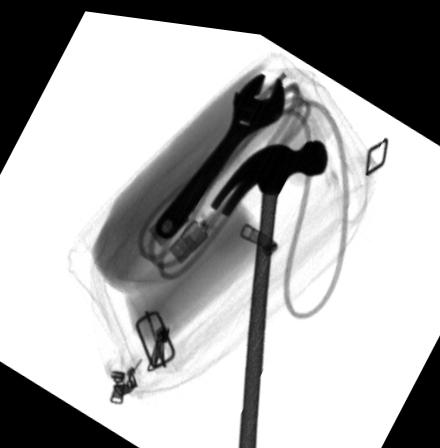Hammer: (210, 128, 329, 448)
Wrench: (152, 62, 287, 233)
